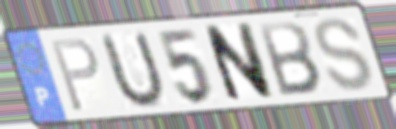5: (152, 25, 217, 107)
B: (256, 19, 325, 99)
N: (199, 20, 277, 106)
P: (48, 36, 103, 116)
S: (310, 15, 375, 94)
U: (99, 28, 168, 112)
